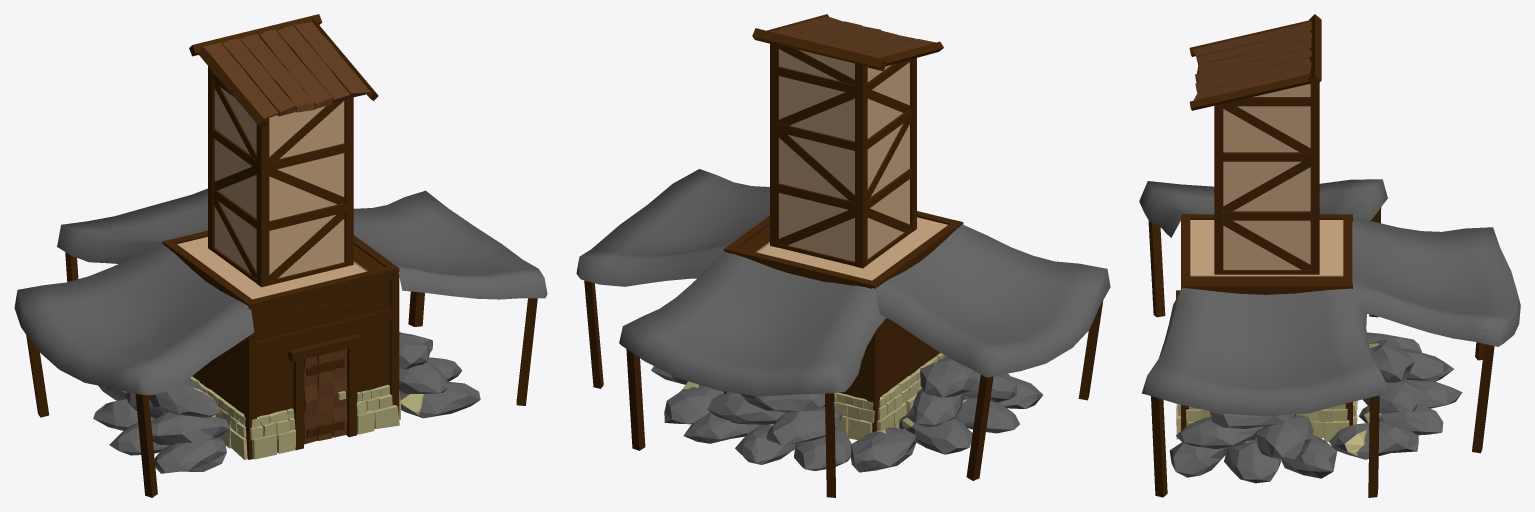
The model's file is FoodStorage.fbx.
3 views of the same model, side by side, from view 1: azimuth 30°, elevation 25°; view 2: azimuth 150°, elevation 25°; view 3: azimuth 270°, elevation 25° (orthographic). The views are drawn at different scales.
Parts seen in each view (by area): view 1: Building.004, Food 60%, Food 20%, Food 100%, Food 80%; view 2: Building.004, Food 80%, Food 40%, Food 60%, Food 20%, Food 100%; view 3: Building.004, Food 20%, Food 100%, Food 40%, Food 80%.
Part boxes in pixels (x1,y1,x2,y2): Building.004: [14, 14, 547, 497]; Food 60%: [93, 399, 229, 473]; Food 20%: [400, 357, 480, 418]; Food 100%: [399, 332, 447, 393]; Food 80%: [124, 379, 220, 418]; Building.004: [576, 14, 1110, 497]; Food 80%: [707, 356, 980, 445]; Food 40%: [683, 412, 915, 472]; Food 60%: [899, 373, 1042, 454]; Food 20%: [651, 366, 724, 424]; Food 100%: [740, 393, 824, 412]; Building.004: [1139, 14, 1520, 497]; Food 20%: [1169, 421, 1418, 483]; Food 100%: [1176, 339, 1415, 459]; Food 40%: [1359, 332, 1462, 435]; Food 80%: [1362, 348, 1449, 413].
Size of the model in its own units: 1850 by 1438 by 1379.
